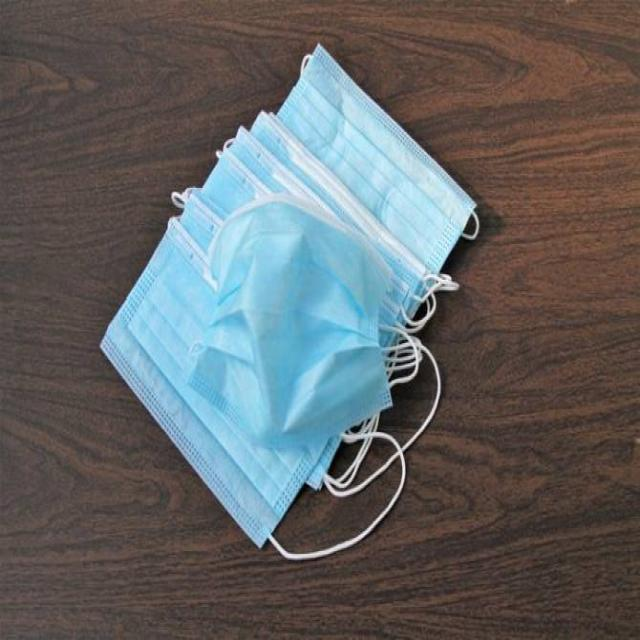face mask: (94, 63, 483, 547), (202, 210, 410, 440)
